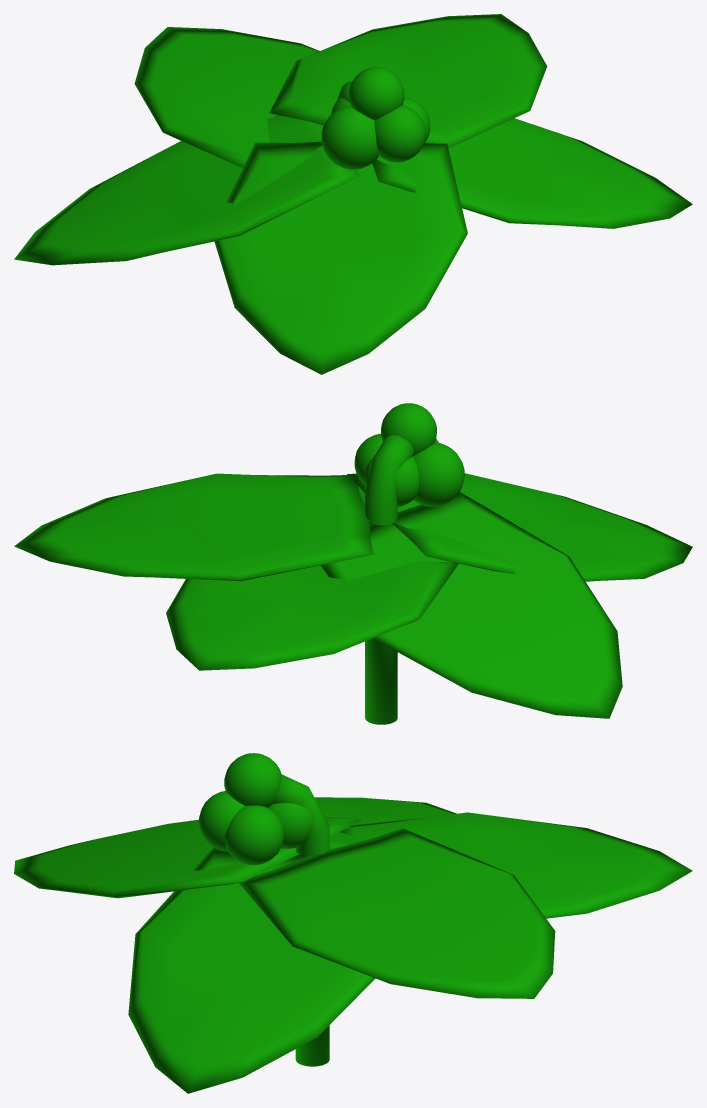
File: food-plant.fbx
The picture shows the model from 3 angles, top to bottom: view 1: azimuth 30°, elevation 25°; view 2: azimuth 150°, elevation 25°; view 3: azimuth 270°, elevation 25°; orthographic projection. The views are drawn at different scales.
Parts seen in each view (by area): view 1: Sphere.004; view 2: Sphere.004; view 3: Sphere.004.
Part boxes in pixels (bbox=[...]): Sphere.004: bbox=[14, 14, 692, 374]; Sphere.004: bbox=[14, 403, 692, 724]; Sphere.004: bbox=[14, 753, 692, 1093].
Bounding box in the file's own units: 200 × 97.42 × 197.
